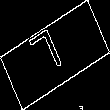L_SE: (34, 26, 76, 84)
